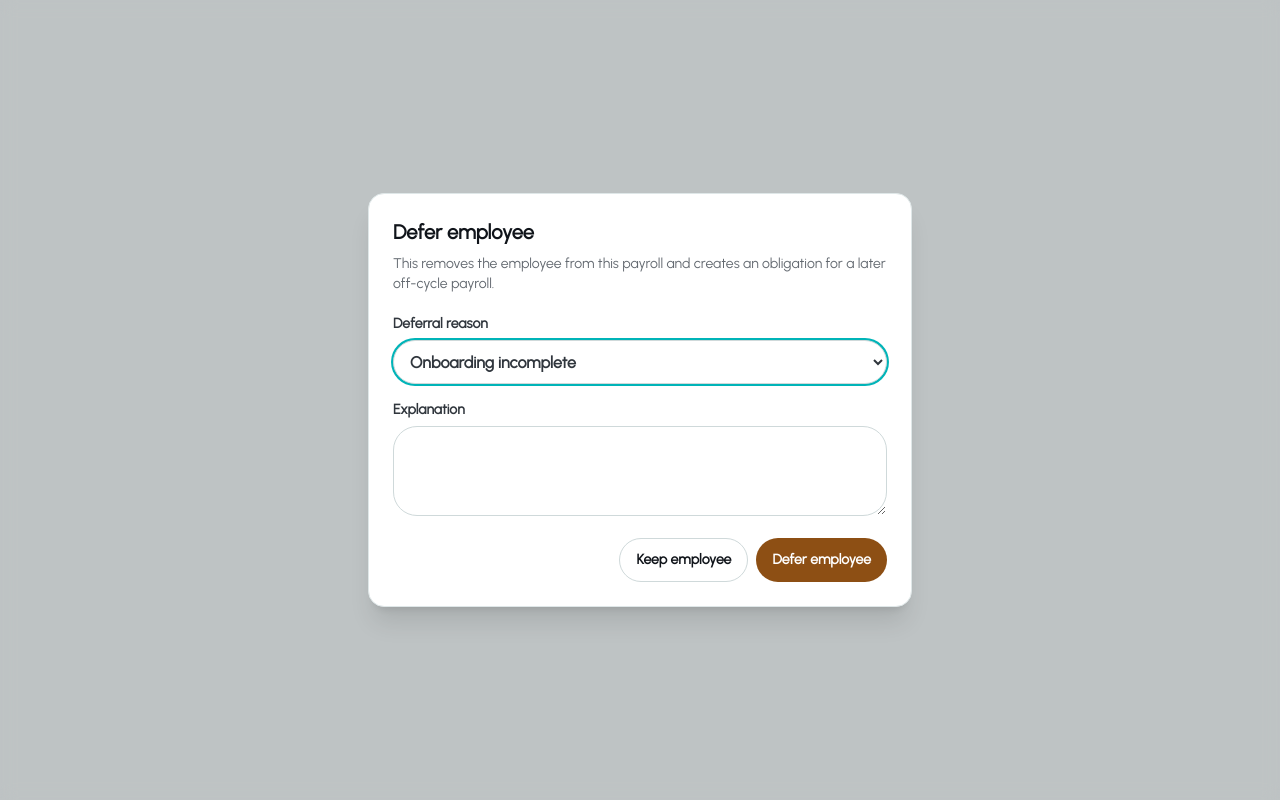
it: PayrollDeferralDialog › requires the server's ten-character explanation
The image size is (1280, 800).
Type "123456789" into the text box labelled "Explanation" at (640,471), box top-left (393, 426), bottom-right (887, 516)
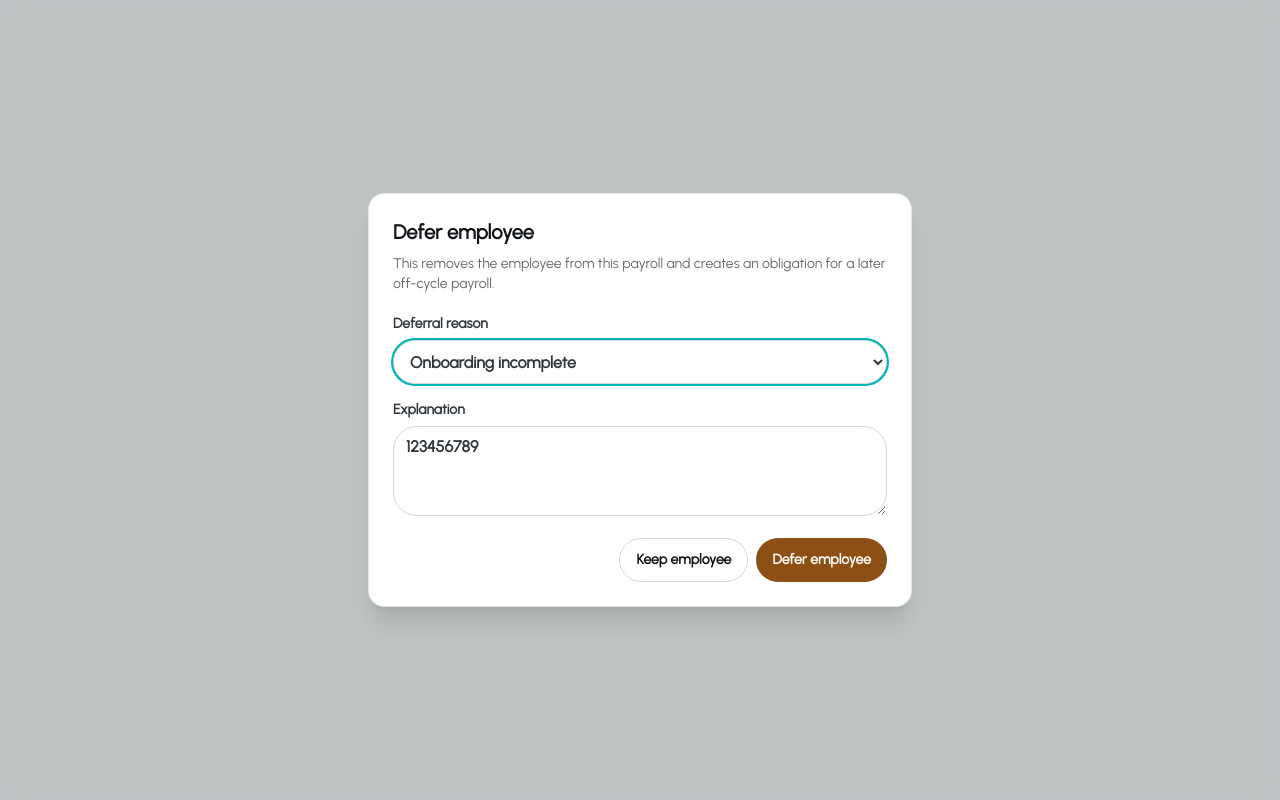
Click the button "Defer employee" at (822,560), box top-left (756, 538), bottom-right (887, 582)
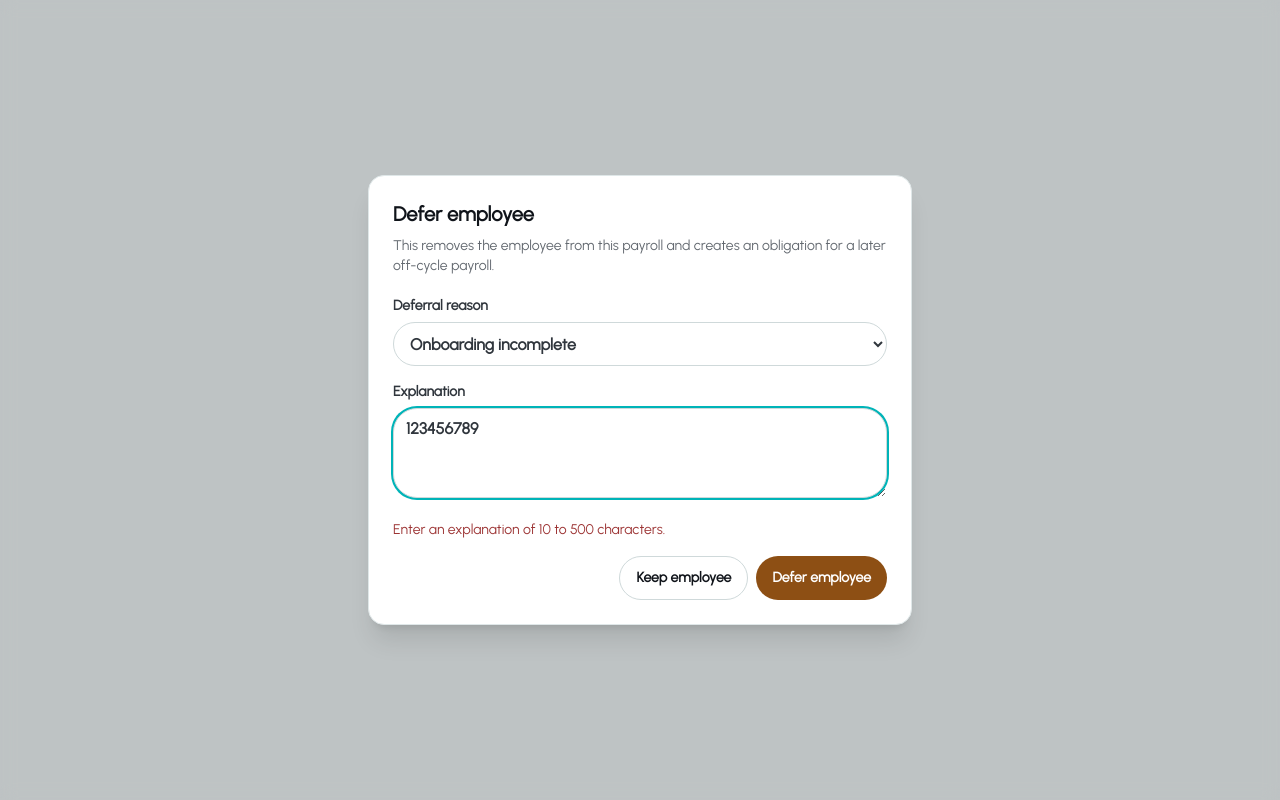
Result: the message shows "10 to 500" at top-left (393, 521), bottom-right (665, 538)
